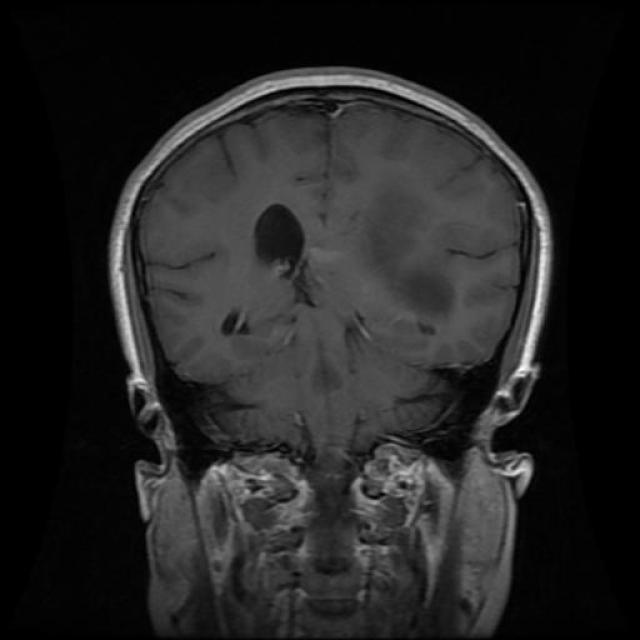glioma: (240, 196, 329, 309)
